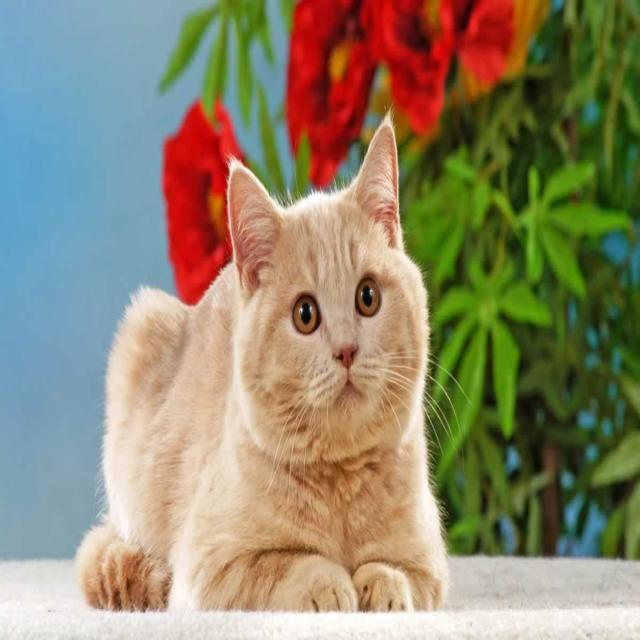cat: (155, 170, 437, 482)
